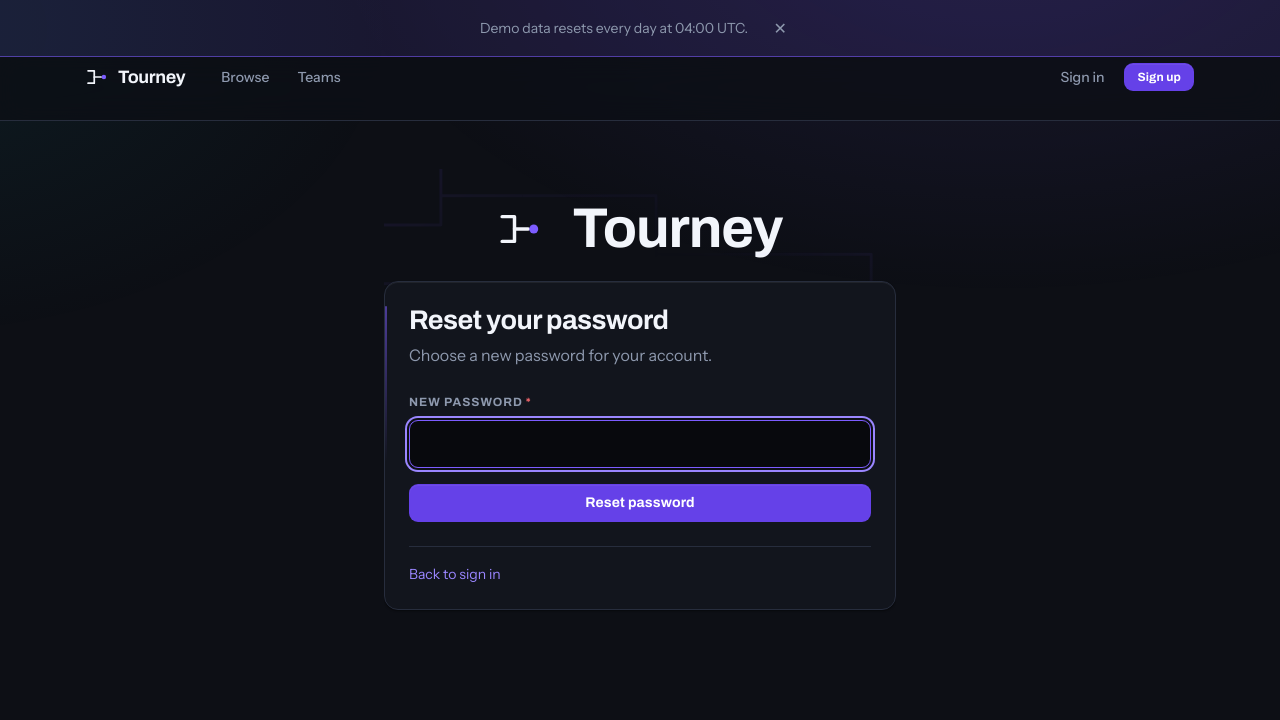
ResetPasswordPage › reports an invalid or expired token
Type "NewPassword1" into the password field labelled "New password*" at (640, 444), box [409,420,871,468]
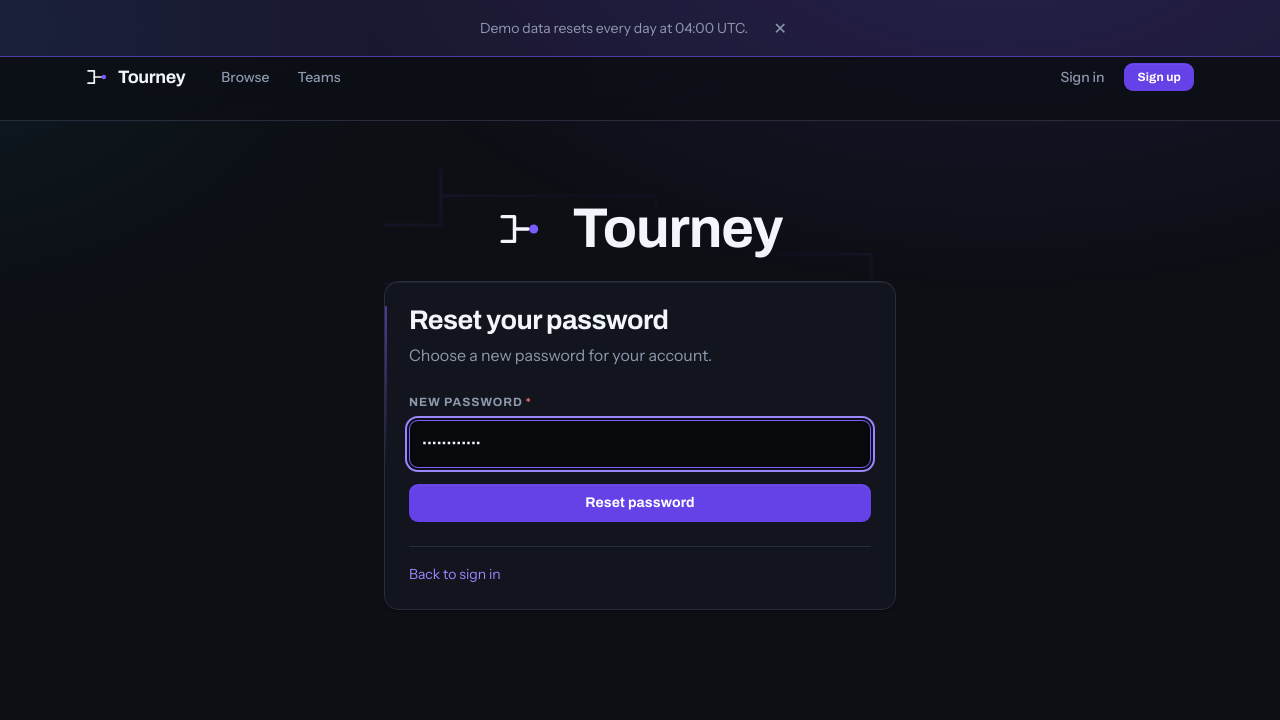
Click the button "Reset password" at (640, 502), box [409,484,871,522]
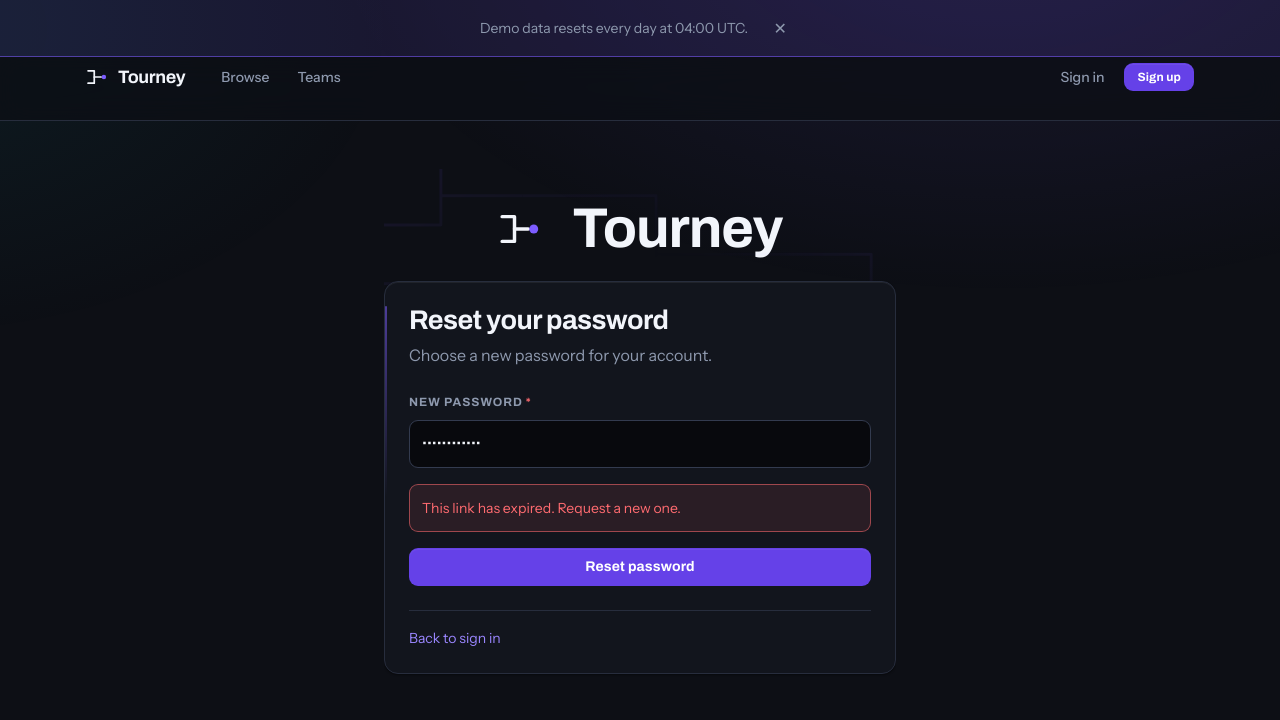
Now the message shows "expired", box [422,498,681,516]
